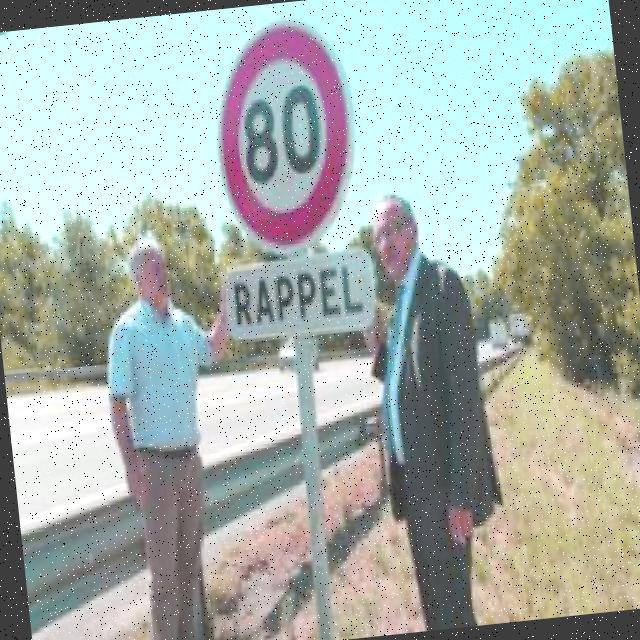Ograniczenie predkosci do 80: (212, 15, 358, 258)
